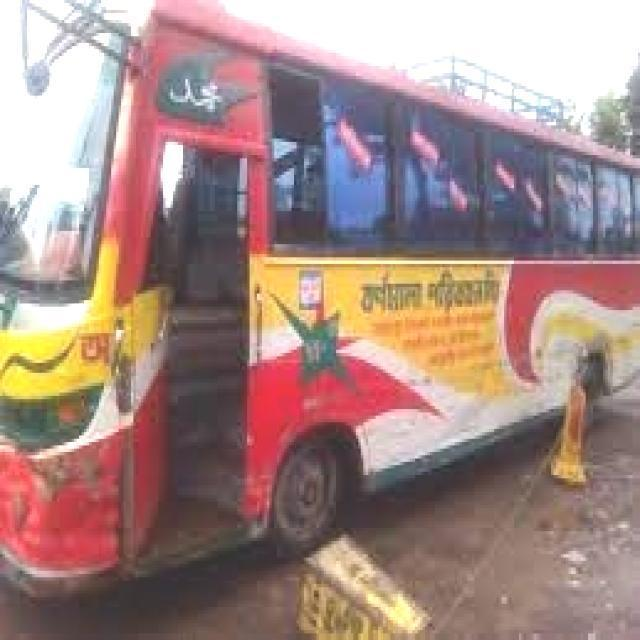Bus: (5, 0, 628, 627)
